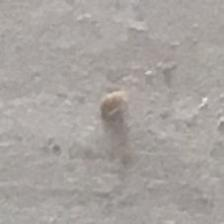Non_Crack: (17, 9, 224, 217)
